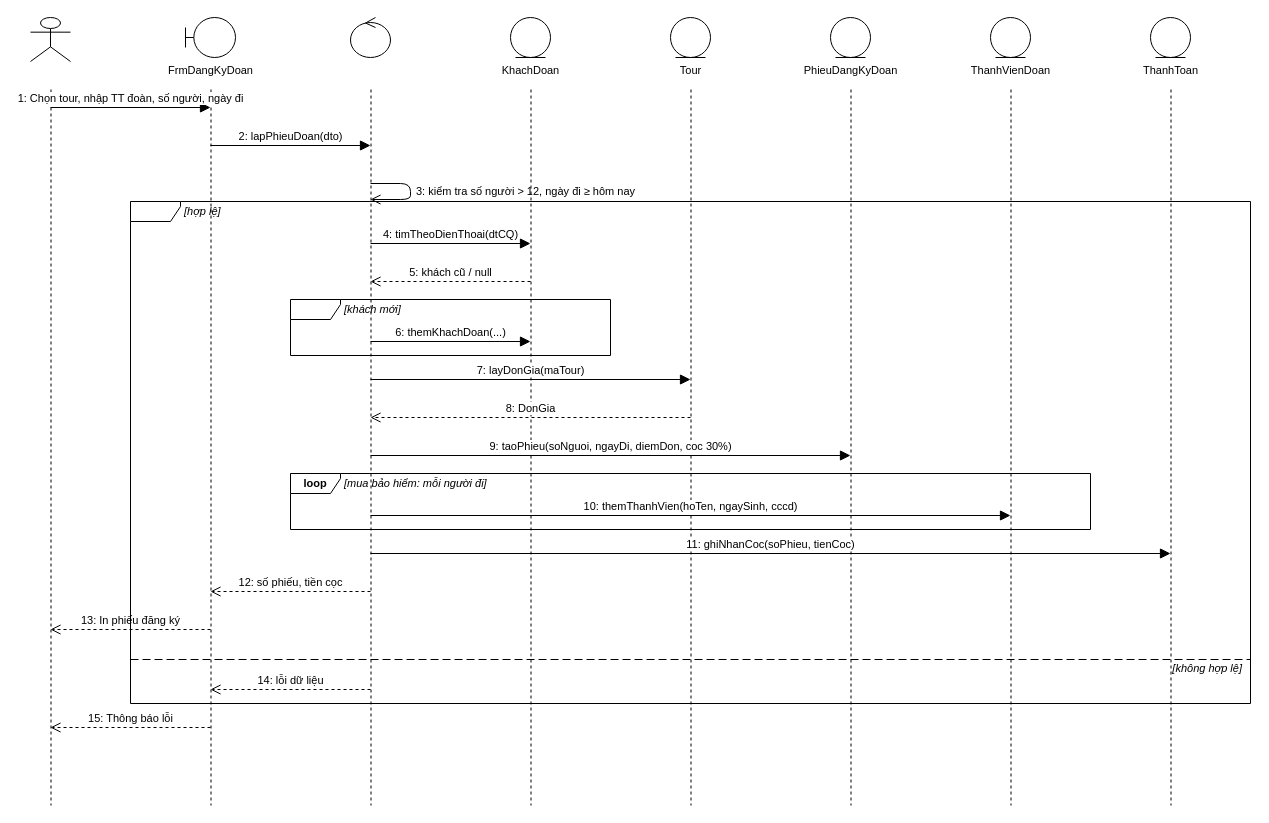
Some shapes in this 1269 by 823 pixel diagram are drawn without their labels. Each missing label, with the box of its shape:
alt: (130, 200, 1250, 704)
DangKyTourService: (350, 16, 390, 58)
NV đăng ký: (30, 16, 70, 62)
opt: (290, 298, 610, 356)
